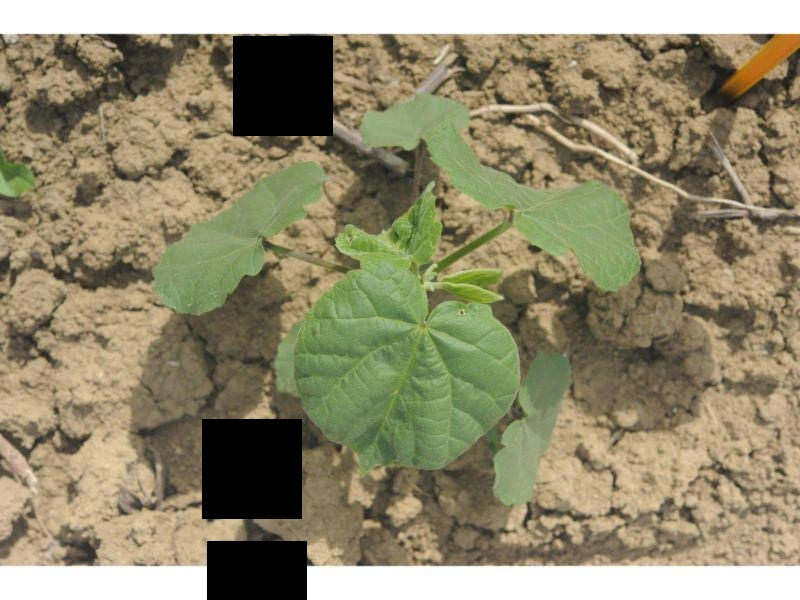velvet: (150, 92, 641, 504)
